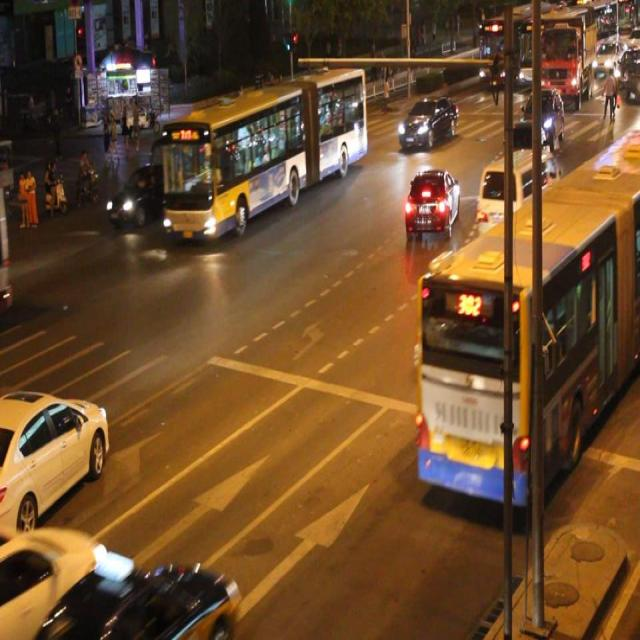car: (1, 387, 110, 536), (66, 554, 238, 640), (1, 524, 108, 640), (107, 164, 174, 228), (404, 164, 460, 239), (397, 97, 458, 151), (503, 120, 544, 186)
truck: (478, 150, 555, 240)
van: (420, 135, 640, 499), (162, 68, 364, 231)
